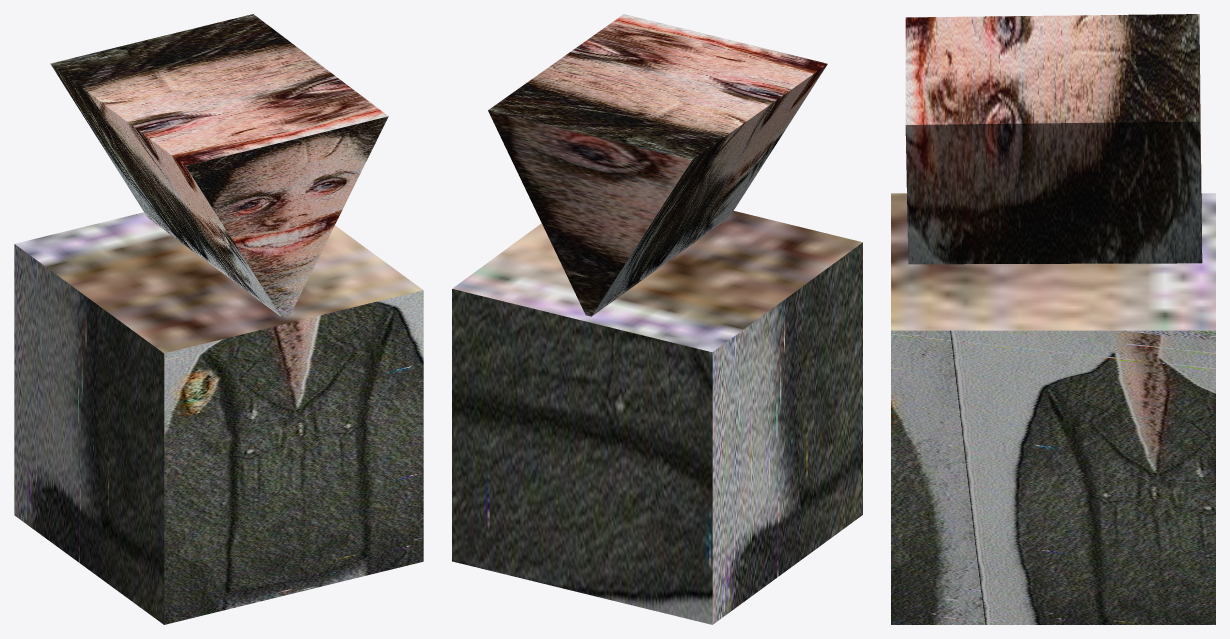
File: PlayerBondigger.glb
3 views of the same model, side by side, from view 1: azimuth 30°, elevation 25°; view 2: azimuth 150°, elevation 25°; view 3: azimuth 270°, elevation 25° (orthographic). The views are drawn at different scales.
Parts seen in each view (by area): view 1: Cube, Cylinder; view 2: Cube, Cylinder; view 3: Cube, Cylinder.
Part boxes in pixels (x1,y1,x2,y2): Cube: [14, 212, 423, 624]; Cylinder: [50, 14, 388, 316]; Cube: [452, 211, 862, 624]; Cylinder: [488, 14, 827, 316]; Cube: [891, 193, 1215, 624]; Cylinder: [905, 14, 1202, 264].
Bounding box in the file's own units: 15.29 × 25.37 × 15.29.
2 materials, 2 textured.
